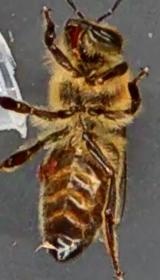varroa_mite: (30, 153, 64, 181)
